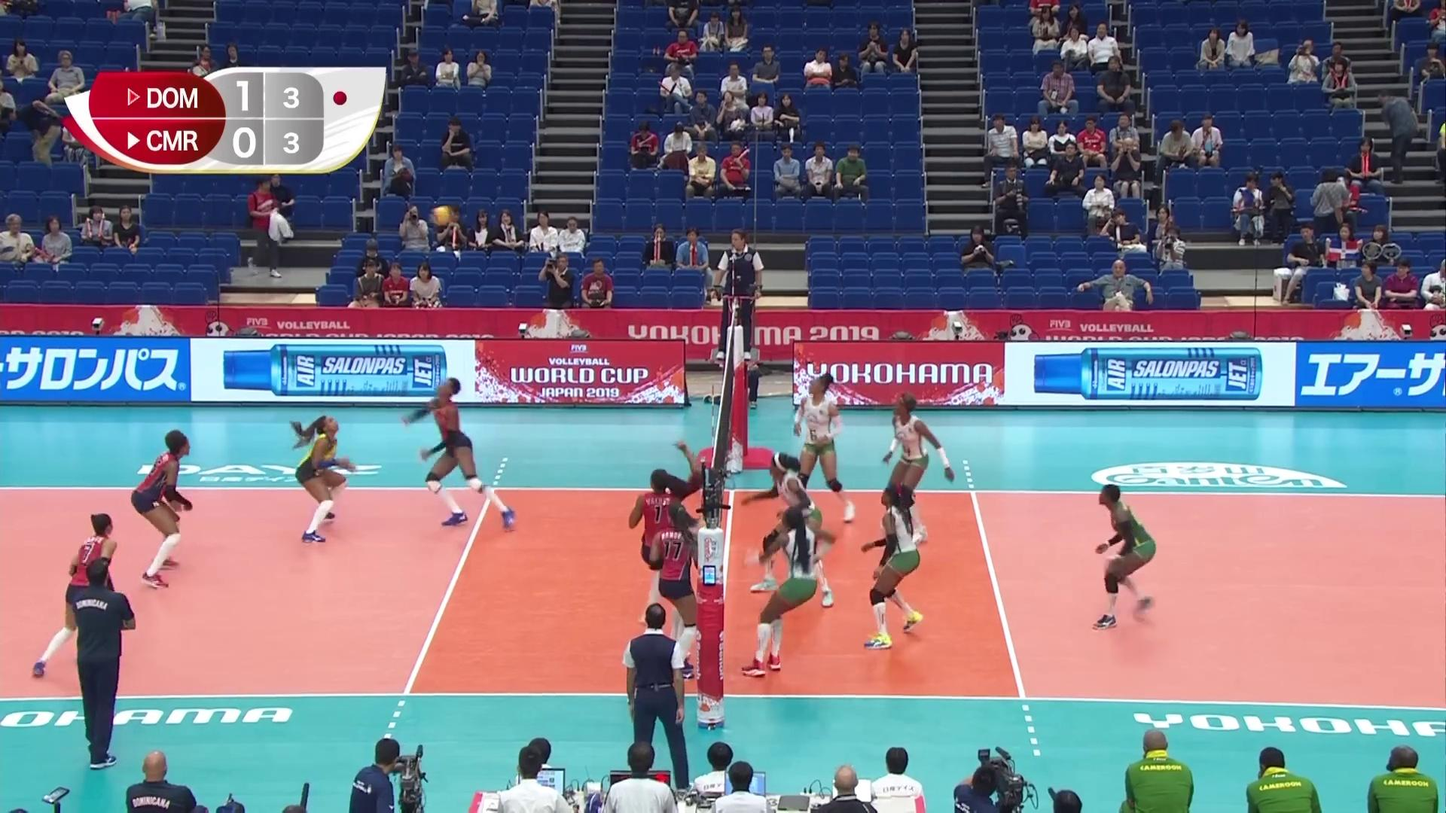player: (409, 384, 515, 531), (33, 511, 125, 677), (627, 466, 698, 664), (751, 448, 826, 603), (752, 494, 815, 672), (130, 431, 201, 583), (858, 487, 925, 648), (880, 398, 952, 546), (789, 375, 852, 540), (289, 417, 369, 543), (1092, 485, 1159, 630), (652, 505, 706, 677)
refree: (622, 603, 694, 777), (716, 226, 765, 365)
